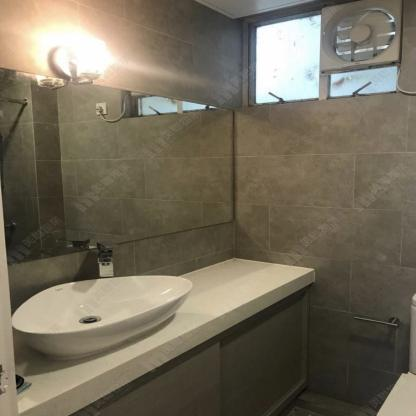Exhaust Fan: (319, 1, 402, 75)
Faucet: (82, 237, 119, 281)
Toilet Sink: (12, 271, 194, 366)
